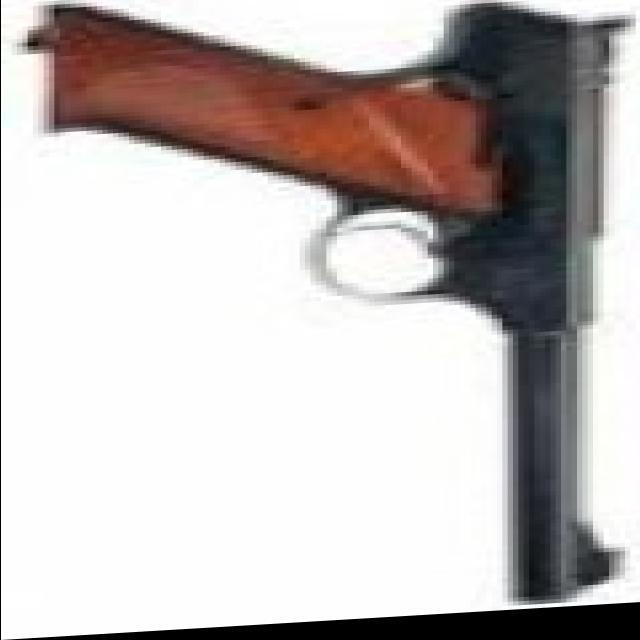handgun: (53, 0, 635, 634)
